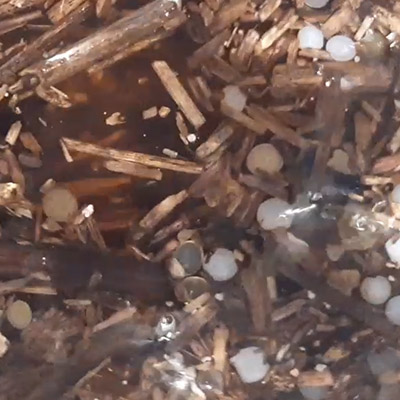nurdle: (237, 141, 287, 180), (226, 343, 269, 385), (250, 199, 298, 233), (38, 188, 82, 224), (199, 246, 240, 282), (288, 366, 334, 396), (172, 241, 205, 276), (324, 34, 361, 65), (356, 275, 393, 306), (293, 24, 326, 54), (4, 300, 35, 331)
